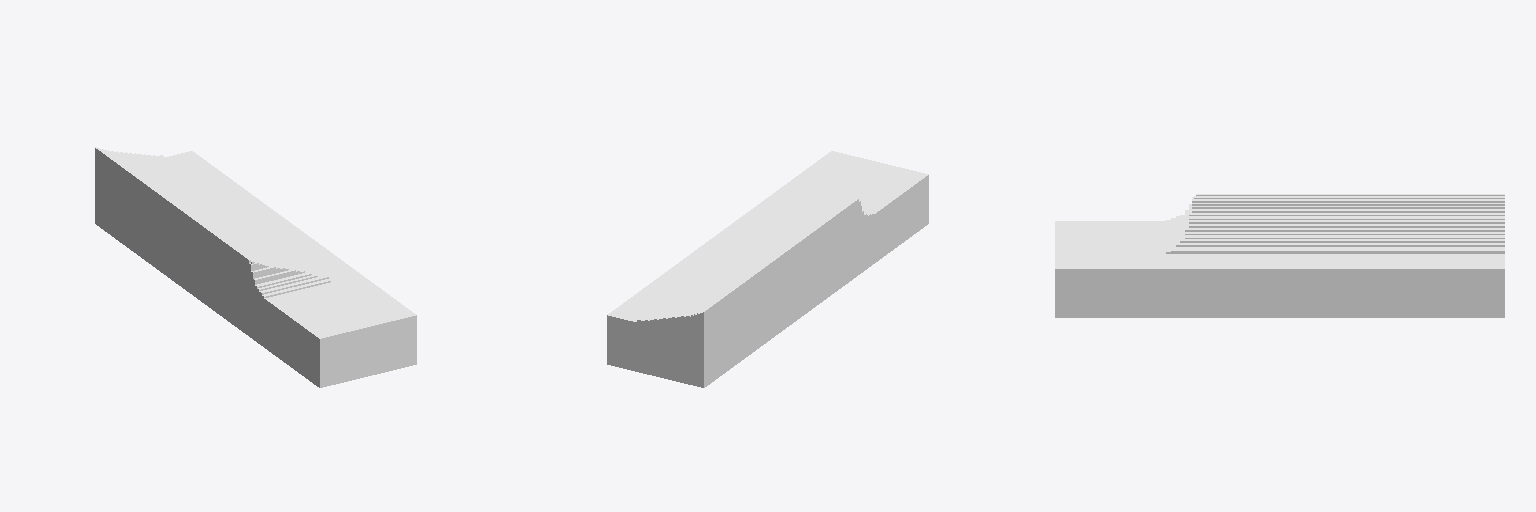
Rendered from castelloVillafranca-8.obj.
The picture shows the model from 3 angles: view 1: azimuth 30°, elevation 25°; view 2: azimuth 150°, elevation 25°; view 3: azimuth 270°, elevation 25°; orthographic projection.
Parts seen in each view (by area): view 1: object 1; view 2: object 1; view 3: object 1.
Part boxes in pixels (x1,y1,x2,y2): object 1: (95,147,416,387); object 1: (607,151,928,387); object 1: (1055,194,1504,317).
Size of the model in its own units: 6.4 by 4.8 by 25.6.